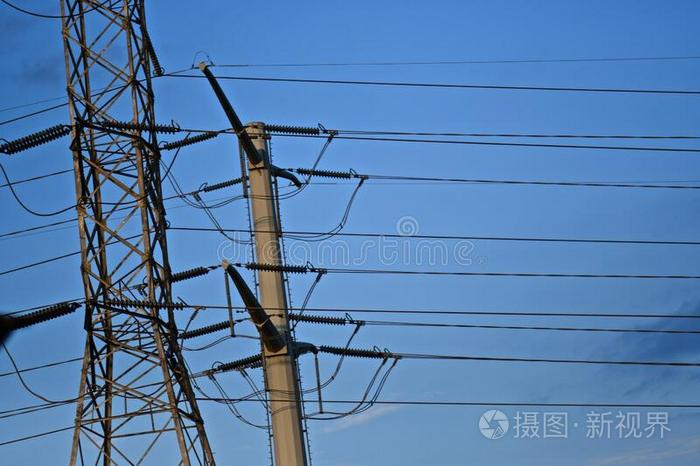insulator: (12, 299, 77, 329), (4, 124, 66, 155), (177, 320, 235, 340), (109, 296, 186, 311), (319, 344, 386, 360), (244, 258, 307, 275), (163, 131, 219, 150), (286, 311, 348, 327), (101, 121, 177, 134), (265, 121, 321, 136), (217, 354, 261, 370), (295, 167, 349, 180), (167, 265, 207, 282)
